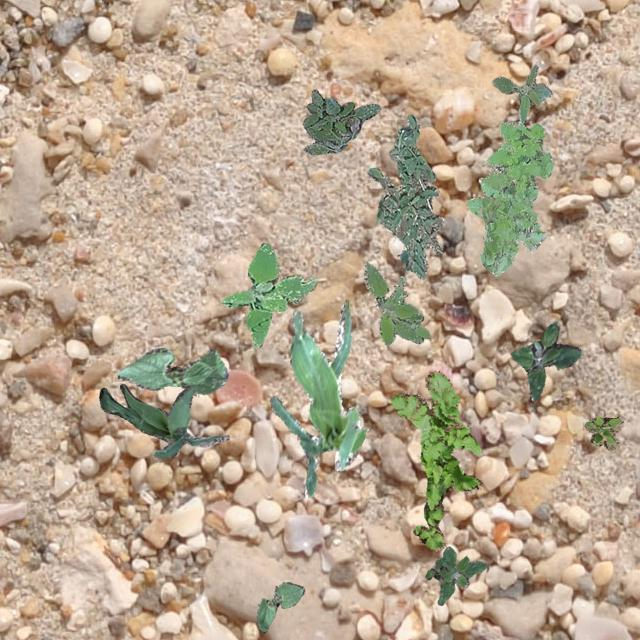crop: (268, 298, 368, 496), (98, 382, 228, 457), (116, 346, 227, 394), (256, 580, 304, 632)
weed: (390, 370, 480, 550), (466, 120, 552, 274), (366, 114, 442, 278), (222, 242, 316, 348), (362, 260, 428, 344), (510, 322, 580, 401), (302, 88, 379, 154), (424, 546, 486, 604), (492, 64, 550, 122), (584, 416, 622, 448)
